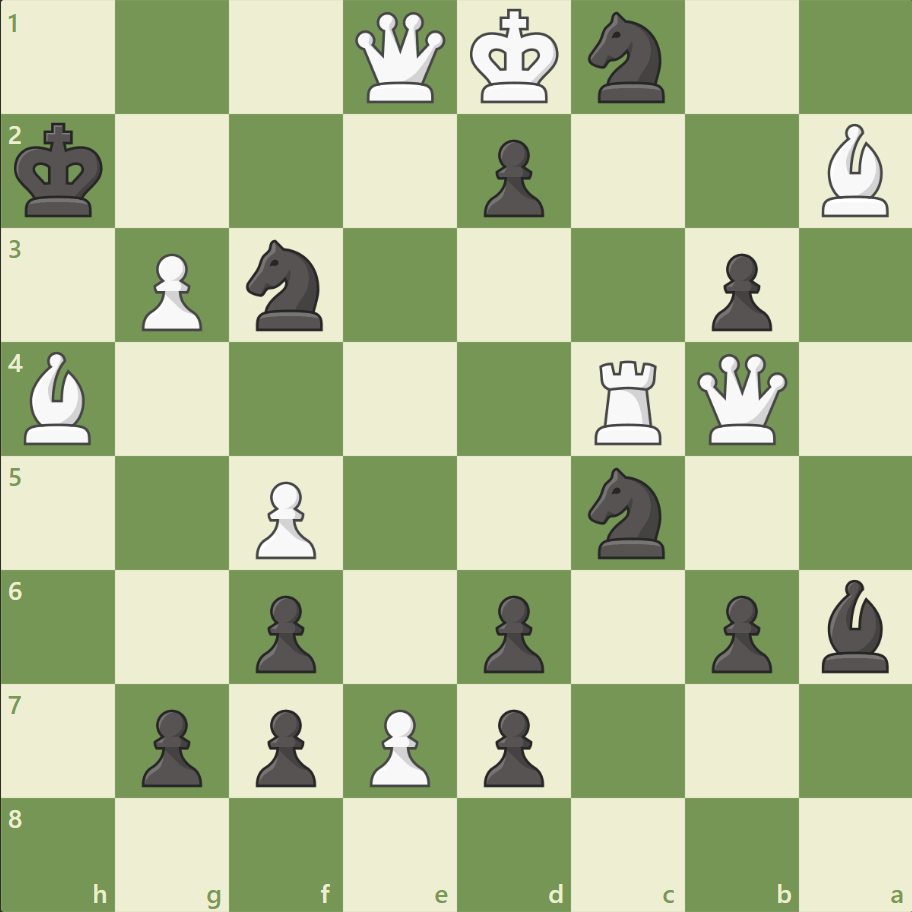B: (17, 347, 101, 449), (812, 120, 896, 222)
K: (465, 4, 565, 112)
P: (247, 473, 322, 564), (133, 246, 208, 337), (361, 700, 435, 791)
Q: (691, 349, 790, 449), (351, 9, 450, 108)
R: (587, 352, 670, 449)
b: (812, 574, 896, 676)
k: (11, 117, 111, 225)
n: (579, 461, 676, 564), (238, 234, 335, 337), (579, 7, 676, 110)
p: (474, 700, 549, 791), (247, 700, 322, 791), (133, 700, 208, 791), (701, 586, 776, 677), (474, 586, 549, 677), (247, 586, 322, 677), (701, 246, 776, 337), (474, 132, 549, 223)
